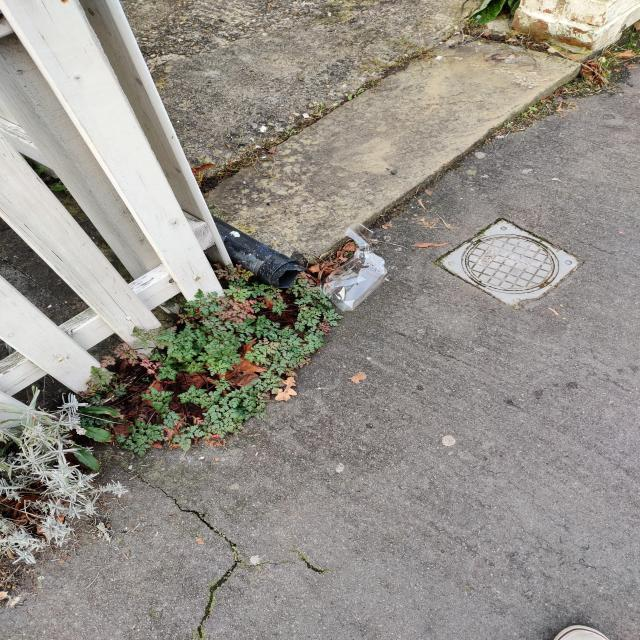litter: (304, 215, 402, 316), (545, 620, 617, 639)
